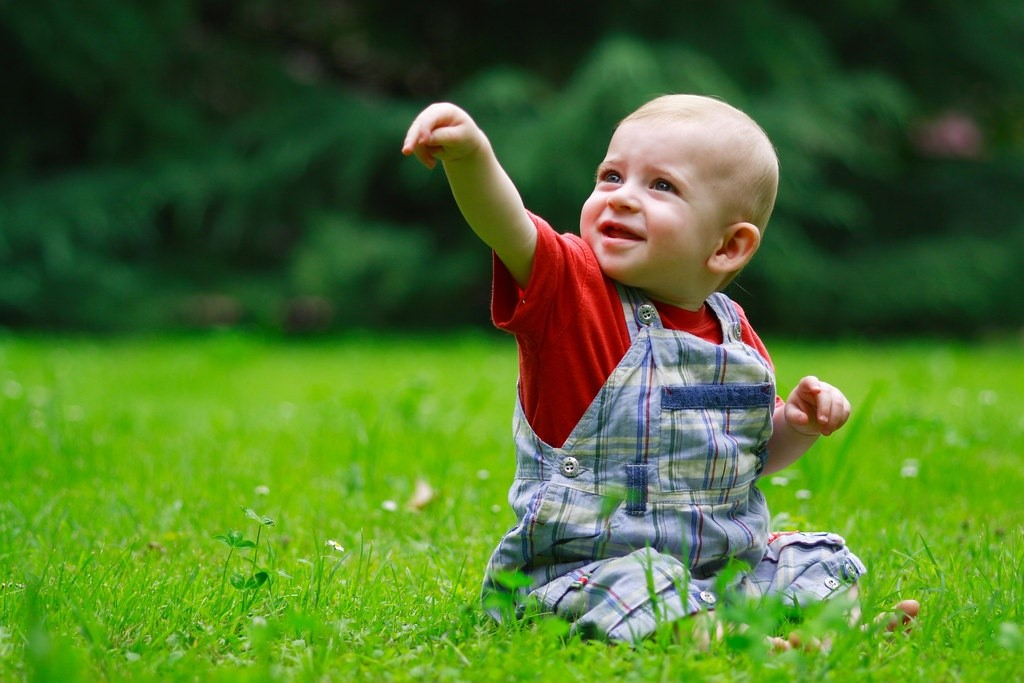face_no_mask: (577, 91, 780, 312)
